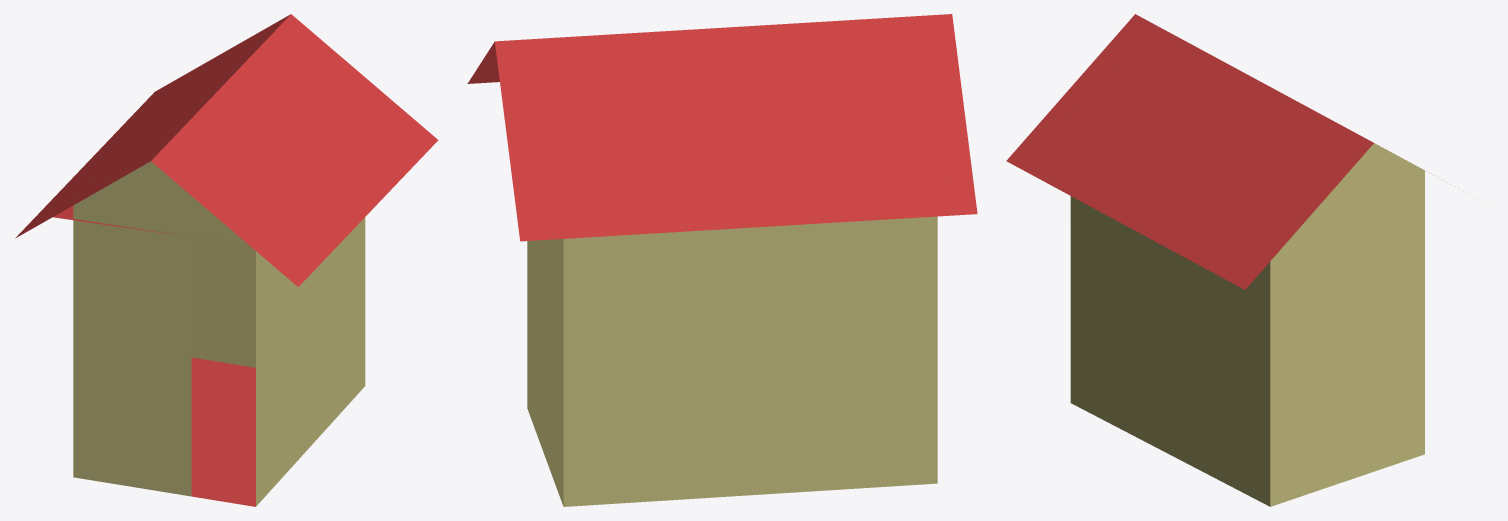
3 views of the same model, side by side, from view 1: azimuth 30°, elevation 25°; view 2: azimuth 150°, elevation 25°; view 3: azimuth 270°, elevation 25° (orthographic). The views are drawn at different scales.
Size of the model in its own units: 11.67 by 11.38 by 9.06.
